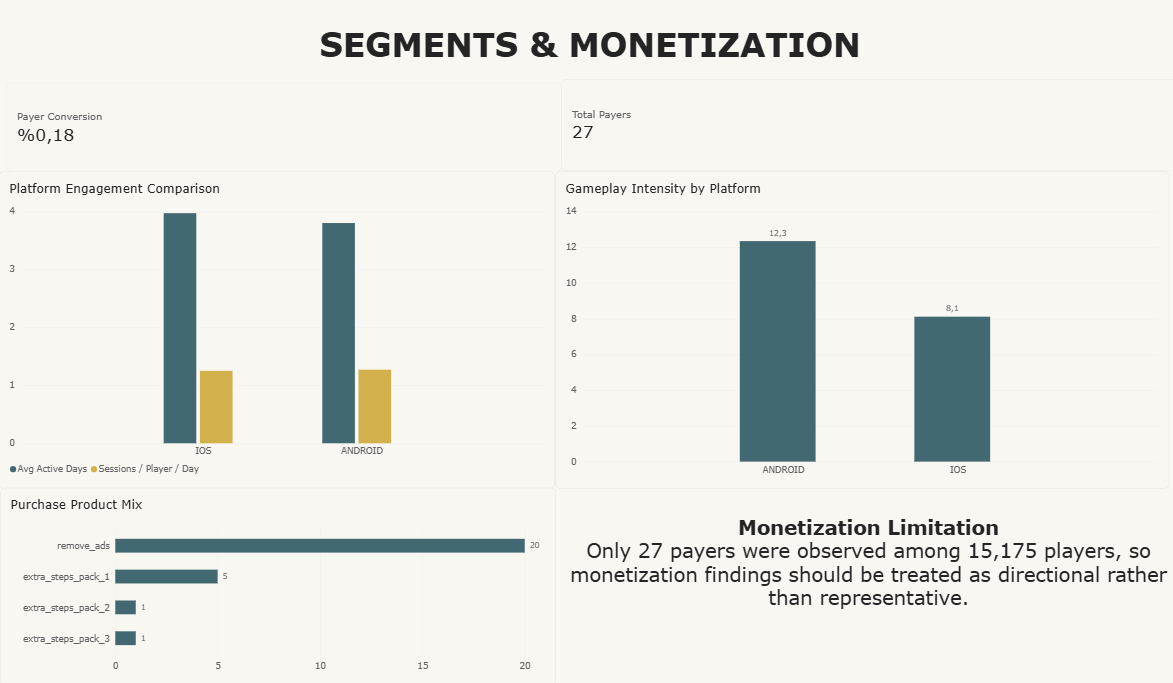

This screenshot's page, from the dashboard's own definition file:
{"tool":"powerbi","page":{"name":"Segments & Monetization","canvas":[1920,1080],"ordinal":3},"visuals":[{"type":"textbox","box":[10,0,1910,95],"z":0},{"type":"clusteredColumnChart","title":"Platform Engagement Comparison","fields":{"Category":["bi_platform_summary_v.platform"],"Y":["Sum(bi_platform_summary_v.avg_active_days)","Sum(bi_platform_summary_v.sessions_per_player_day)"]},"box":[0,240,907.5,517.5],"z":1},{"type":"clusteredColumnChart","title":"Gameplay Intensity by Platform","fields":{"Category":["bi_platform_summary_v.platform"],"Y":["Sum(bi_platform_summary_v.level_starts_per_player_day)"]},"box":[907.5,240,1002.5,517.5],"z":2},{"type":"cardVisual","fields":{"Data":["bi_activation_segments_v.Payer Conversion"]},"box":[12.5,95,907.5,145],"z":3},{"type":"cardVisual","fields":{"Data":["bi_activation_segments_v.Total Payers"]},"box":[917.5,90,1002.5,150],"z":4},{"type":"clusteredBarChart","title":"Purchase Product Mix","fields":{"Category":["bi_monetization_v.product_id"],"Y":["Sum(bi_monetization_v.purchases)"]},"box":[2.5,757.5,907.5,322.5],"z":5},{"type":"textbox","box":[917.5,802.5,1002.5,277.5],"z":6}]}

Visuals, with their boxes on the page's 1920x1080 design canvas (x1, y1, x2, y2). These are canvas units, not pixel positions in the 1173x683 screenshot, which may show the page scaled, cropped or inside an application window:
textbox: 10/0/1920/95
"Platform Engagement Comparison" clusteredColumnChart: 0/240/908/758
"Gameplay Intensity by Platform" clusteredColumnChart: 908/240/1910/758
cardVisual - bi_activation_segments_v.Payer Conversion: 12/95/920/240
cardVisual - bi_activation_segments_v.Total Payers: 918/90/1920/240
"Purchase Product Mix" clusteredBarChart: 2/758/910/1080
textbox: 918/802/1920/1080
